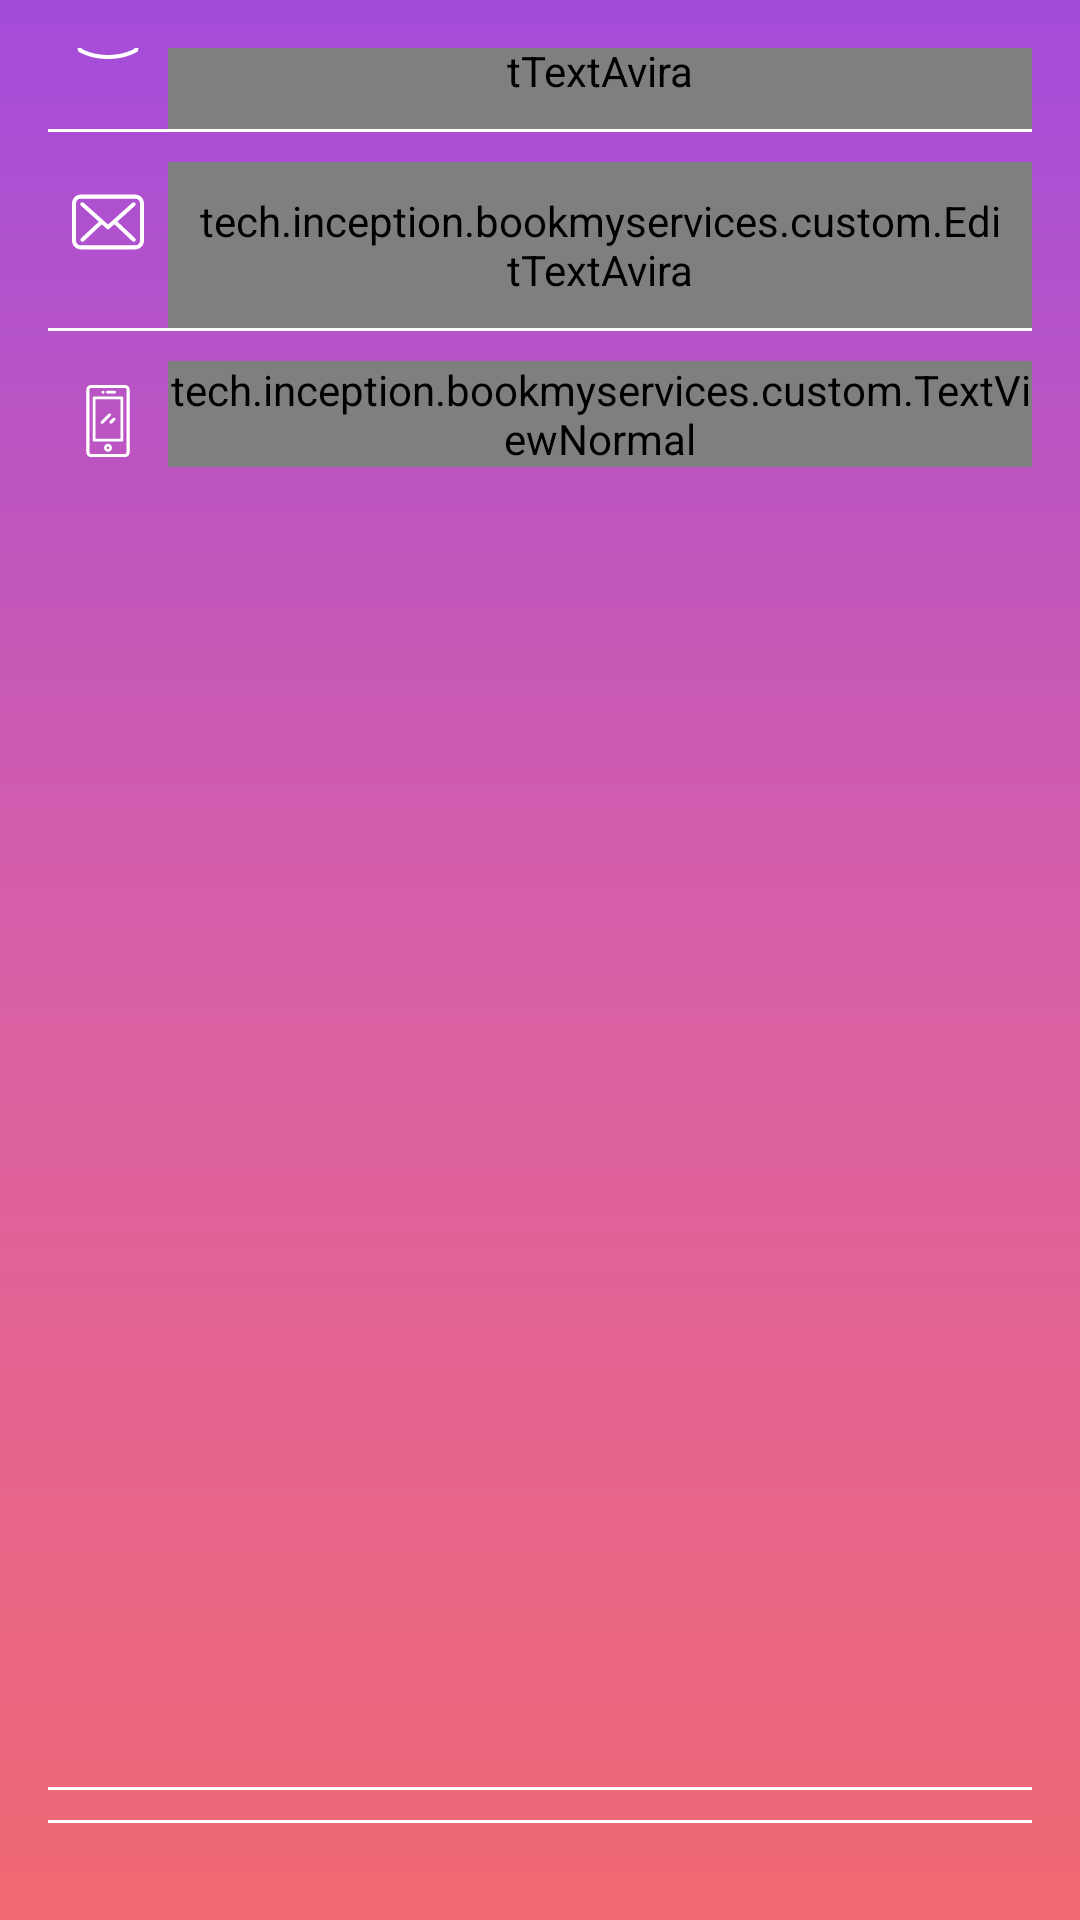

Named icons in this screenshot (1080x1920) and their centers, (x=x, y=y):
smartphone: (x=108, y=421)
